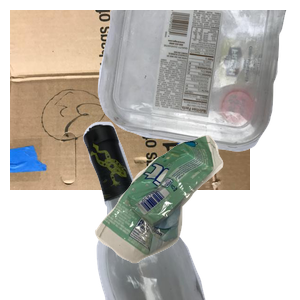cardboard: (10, 10, 250, 190)
glass: (81, 120, 300, 300)
plastic: (95, 10, 300, 154)
trash: (92, 133, 300, 300)
